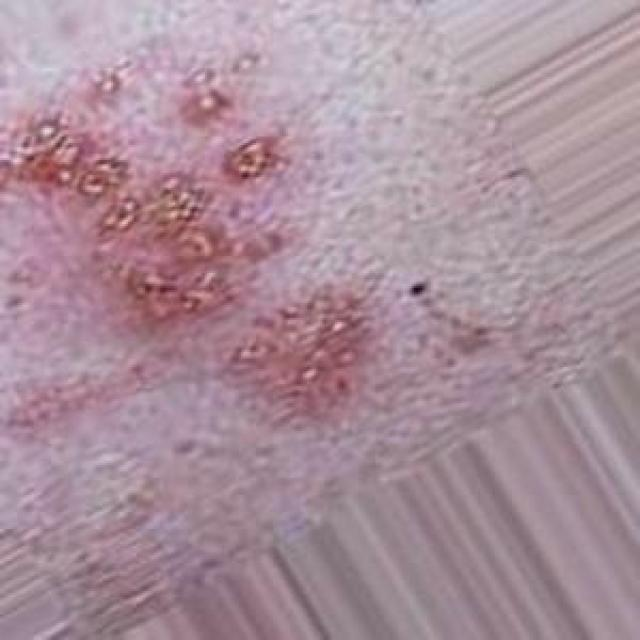Shingles: (0, 112, 256, 316), (228, 277, 373, 431)
